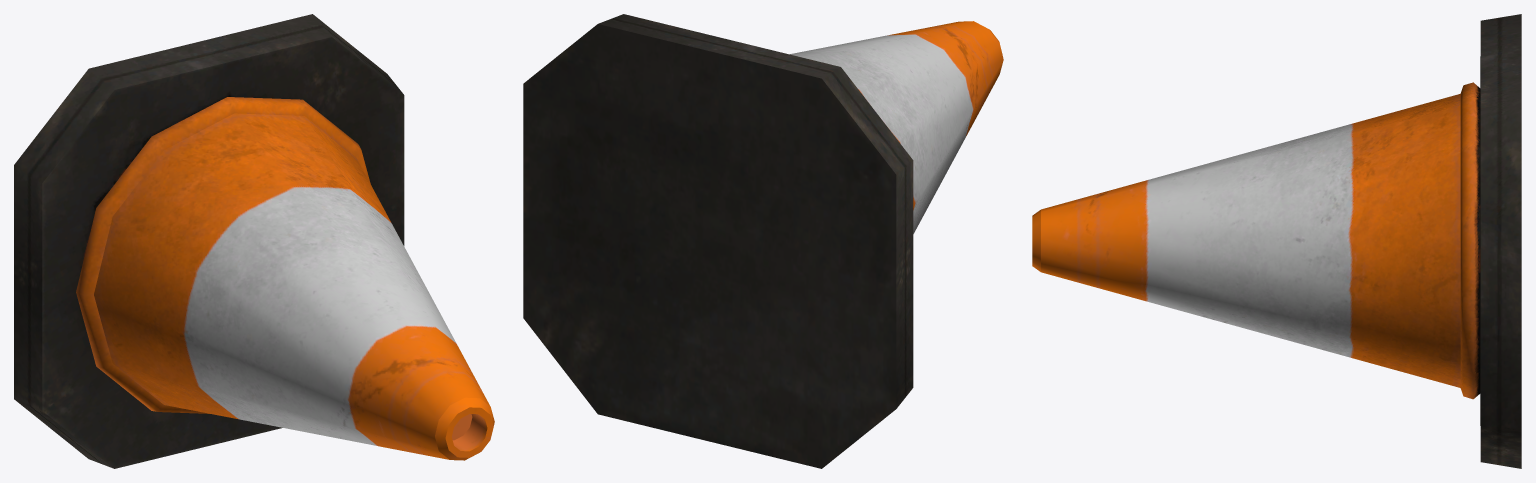
Rendered from Traffic_Cone_Small.obj.
The picture shows the model from 3 angles, left to right: view 1: azimuth 30°, elevation 25°; view 2: azimuth 150°, elevation 25°; view 3: azimuth 270°, elevation 25°; orthographic projection. The views are drawn at different scales.
Parts seen in each view (by area): view 1: trafficConeLow; view 2: trafficConeLow; view 3: trafficConeLow.
Boxes of the visible parts, left/top/right/bottom form: trafficConeLow: left=14, top=14, right=494, bottom=468; trafficConeLow: left=523, top=14, right=1003, bottom=468; trafficConeLow: left=1032, top=14, right=1521, bottom=468.
Size of the model in its own units: 0.4004 by 0.4004 by 0.4996.
Materials: 1 (1 with a texture image).
